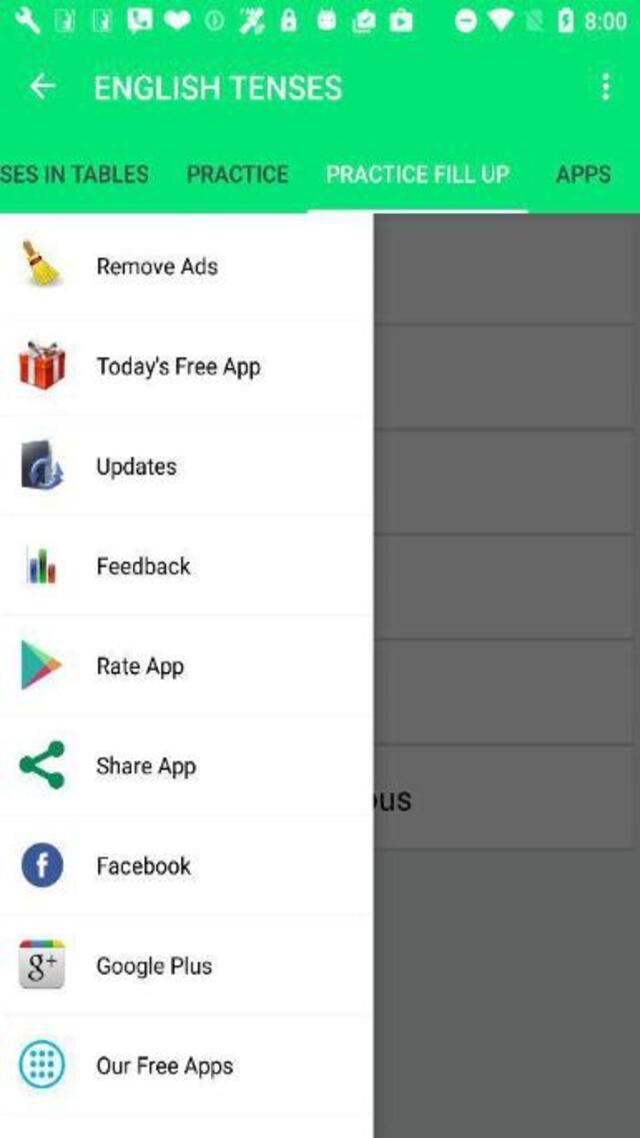Icon: (18, 338, 66, 390), (18, 938, 66, 988), (18, 1038, 66, 1088), (19, 739, 64, 790), (20, 639, 63, 691), (20, 439, 63, 489), (20, 841, 63, 887), (23, 239, 61, 284), (26, 544, 58, 583), (28, 72, 55, 102), (600, 72, 610, 102)
Text: (94, 74, 342, 100), (96, 356, 260, 380), (326, 162, 508, 183), (1, 164, 149, 185), (96, 1056, 232, 1078), (97, 955, 212, 980), (95, 254, 220, 277), (96, 754, 196, 779), (96, 655, 182, 680), (188, 162, 288, 183), (96, 455, 177, 480), (96, 555, 190, 576), (97, 854, 192, 874), (554, 162, 610, 183)
